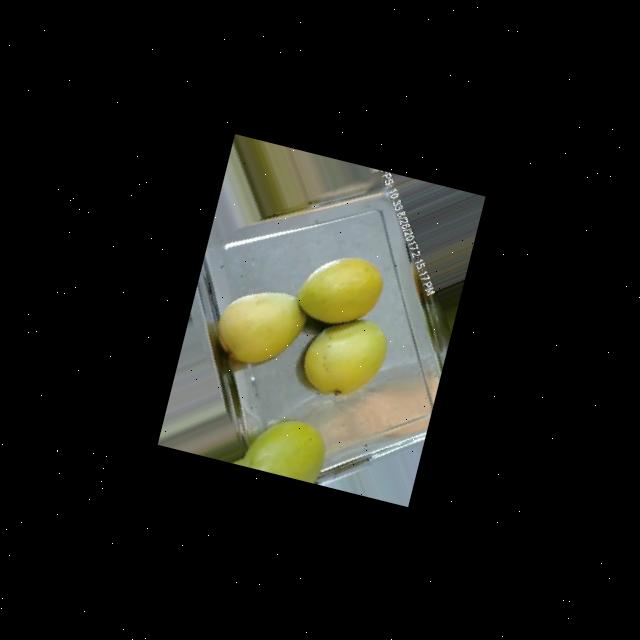Mango: (208, 280, 310, 374), (296, 308, 392, 407), (291, 246, 388, 335)
